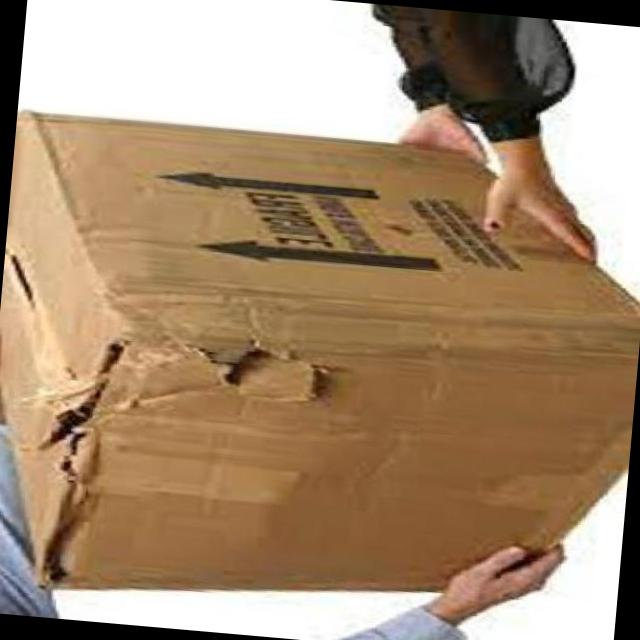box: (1, 108, 640, 591)
tear: (43, 327, 131, 587), (194, 333, 324, 412)
